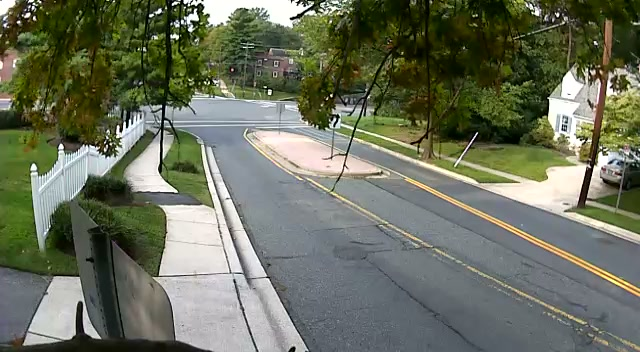car: (599, 151, 640, 189)
